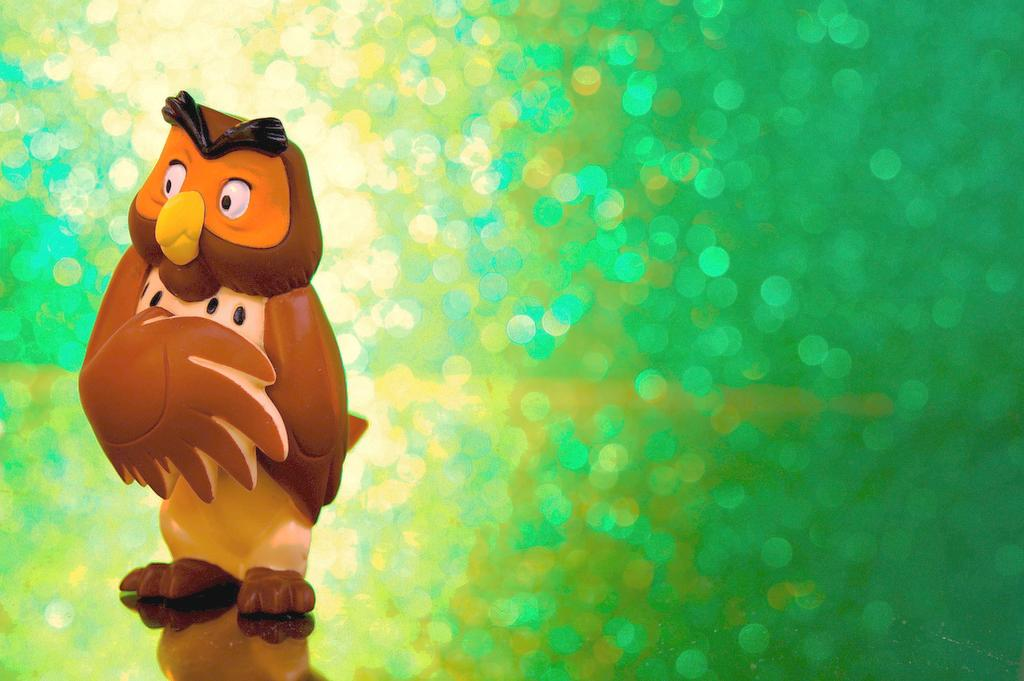Owl: (68, 85, 354, 646)
